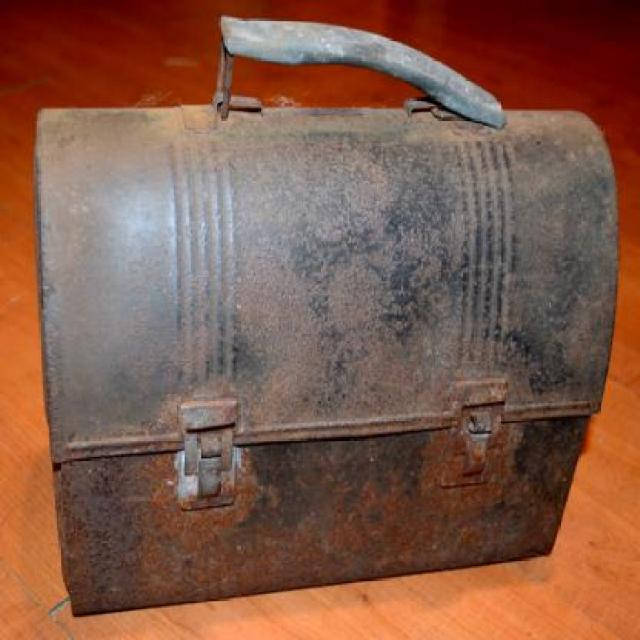corrosion: (33, 12, 624, 620)
